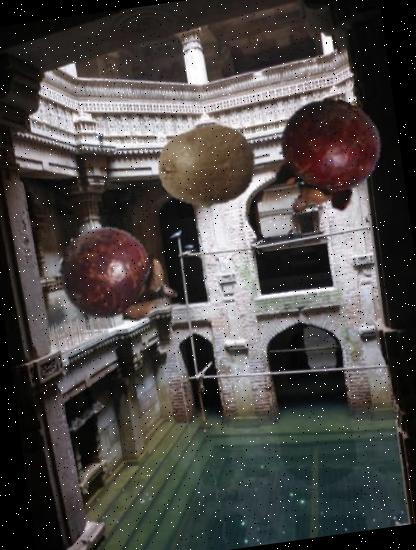Kiwi: (152, 110, 264, 222)
Mangostan: (255, 90, 396, 230), (51, 212, 187, 348)
